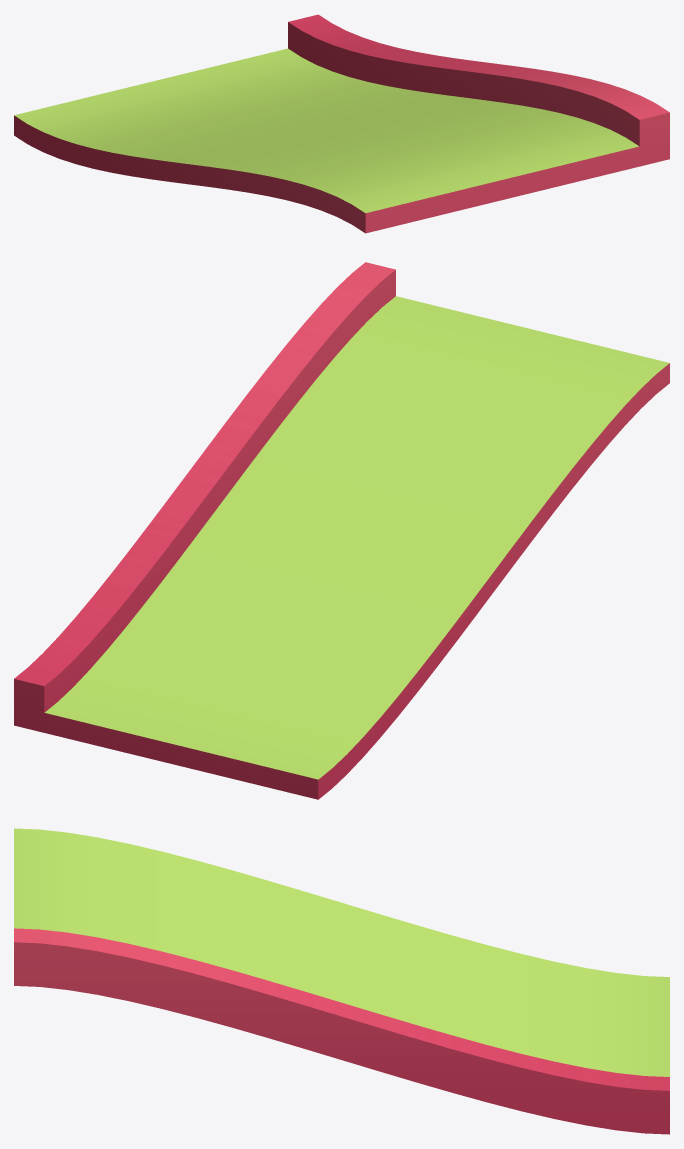
File: ramp-large-side.gltf
3 renders of one model, top to bottom at view 1: azimuth 30°, elevation 25°; view 2: azimuth 150°, elevation 25°; view 3: azimuth 270°, elevation 25°, orthographic. The views are drawn at different scales.
Parts seen in each view (by area): view 1: ramp-large-side; view 2: ramp-large-side; view 3: ramp-large-side.
Boxes of the visible parts, x1,y1,x2,y2 form: ramp-large-side: [14, 14, 669, 233]; ramp-large-side: [14, 262, 669, 799]; ramp-large-side: [14, 828, 669, 1134].
Bounding box in the file's own units: 0.9999 × 0.6467 × 2.
Materials: 1 (1 with a texture image).
